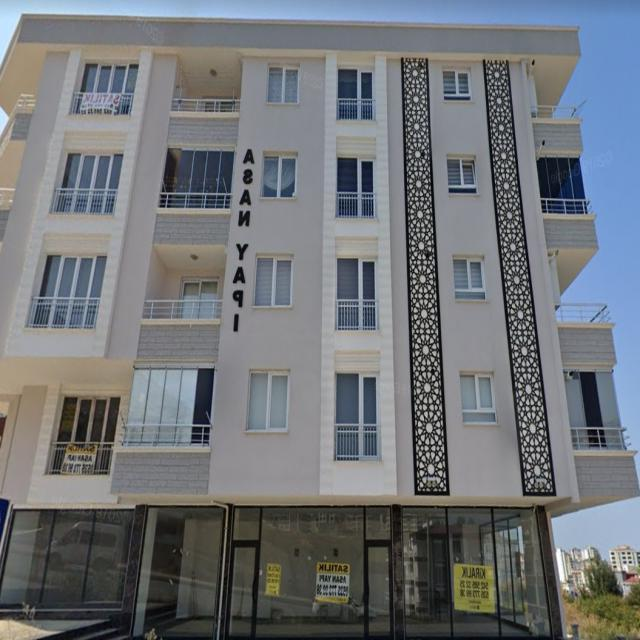Building: (0, 15, 640, 638)
